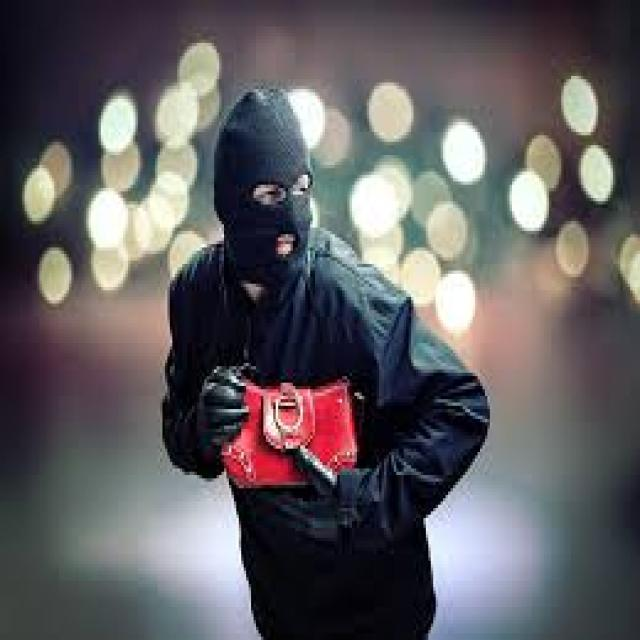28: (243, 375, 360, 473), (221, 389, 308, 491)
6: (159, 69, 569, 639), (161, 77, 445, 634)
74: (367, 84, 412, 138), (561, 77, 598, 136)
75: (244, 470, 436, 640)
handguns: (158, 60, 493, 637)
